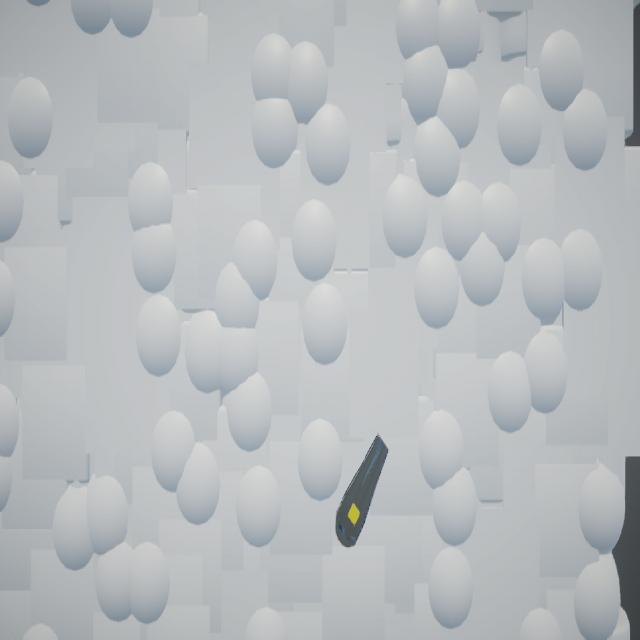handle_knife: (336, 435, 390, 549)
